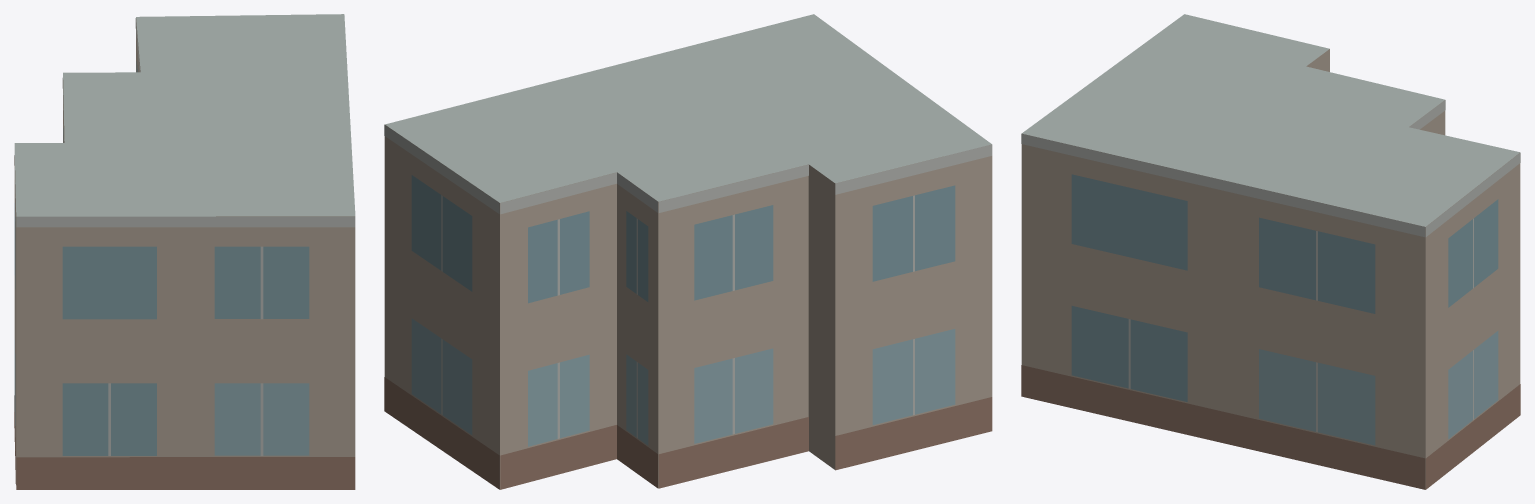
Rendered from survey-upis-32908664.glb.
The picture shows the model from 3 angles, left to right: view 1: azimuth 30°, elevation 25°; view 2: azimuth 150°, elevation 25°; view 3: azimuth 270°, elevation 25°; orthographic projection. The views are drawn at different scales.
Visible parts, largest first — view 1: survey-upis-32908664.tmp; view 2: survey-upis-32908664.tmp; view 3: survey-upis-32908664.tmp.
Boxes of the visible parts, left/top/right/bottom form: survey-upis-32908664.tmp: left=14, top=14, right=355, bottom=489; survey-upis-32908664.tmp: left=384, top=14, right=992, bottom=489; survey-upis-32908664.tmp: left=1021, top=14, right=1520, bottom=489.
Size of the model in its own units: 10.6 by 6.1 by 10.5.
